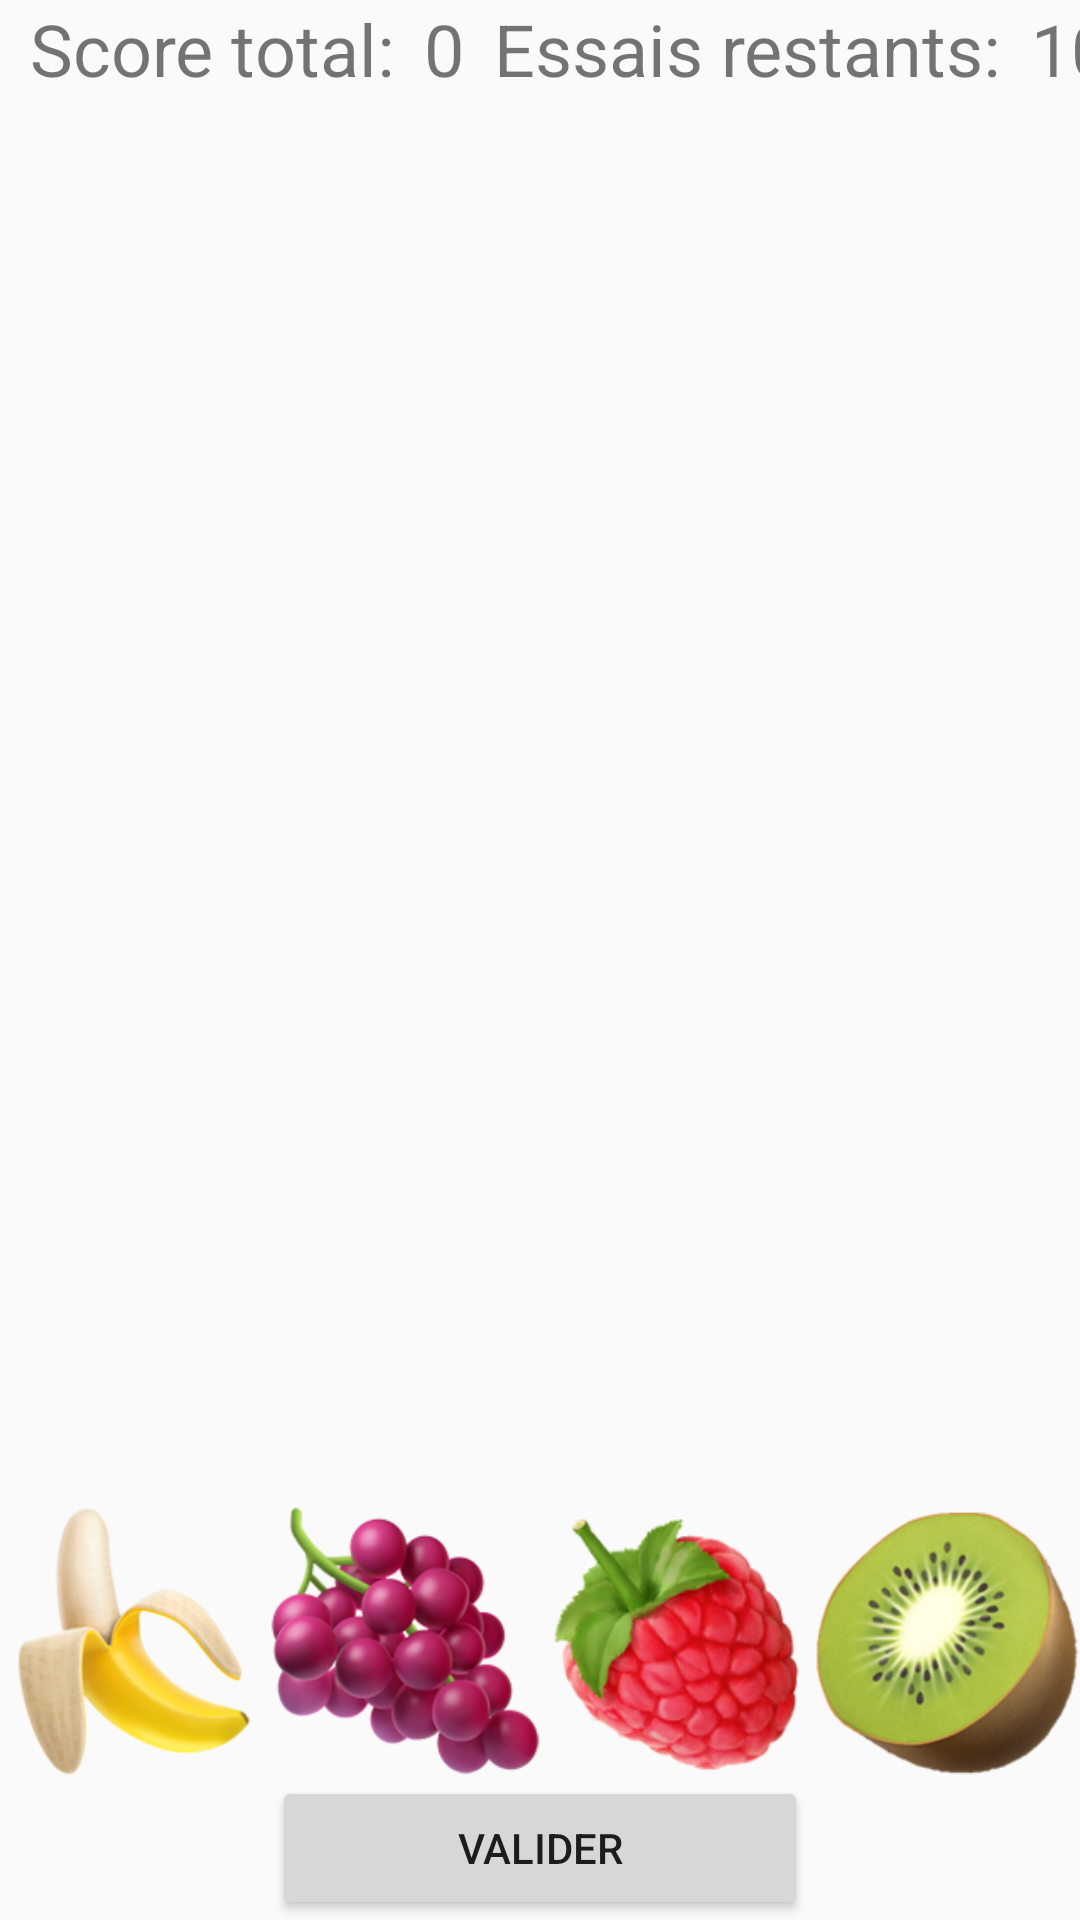

Point at icon controls on the screen. Image size 1080 x 1920, points as (x=x, y=y).
banana: (x=134, y=1641)
grapes: (x=405, y=1640)
kiwi: (x=947, y=1643)
raspberry: (x=676, y=1644)
